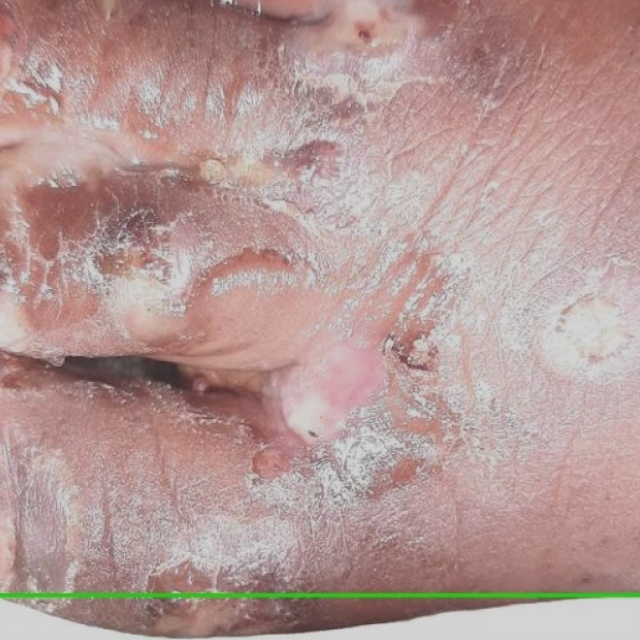Eczema: (0, 595, 639, 639)
